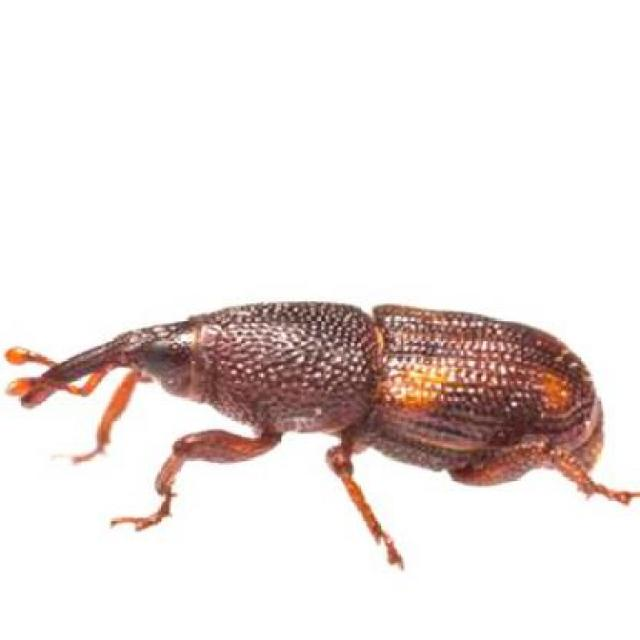rice-bug: (28, 297, 610, 520)
